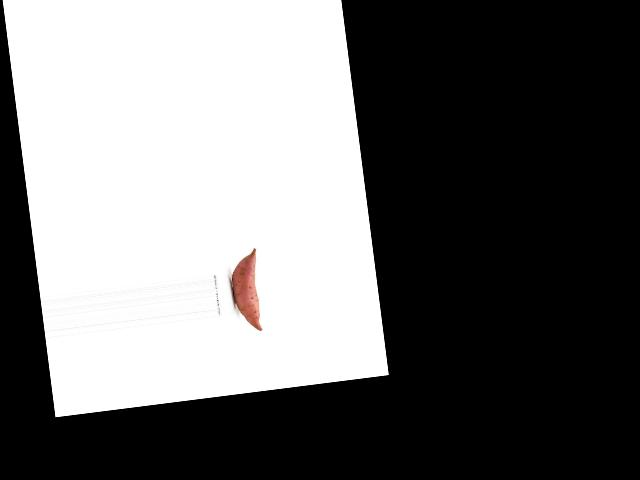sweet_potato: (227, 247, 270, 334)
